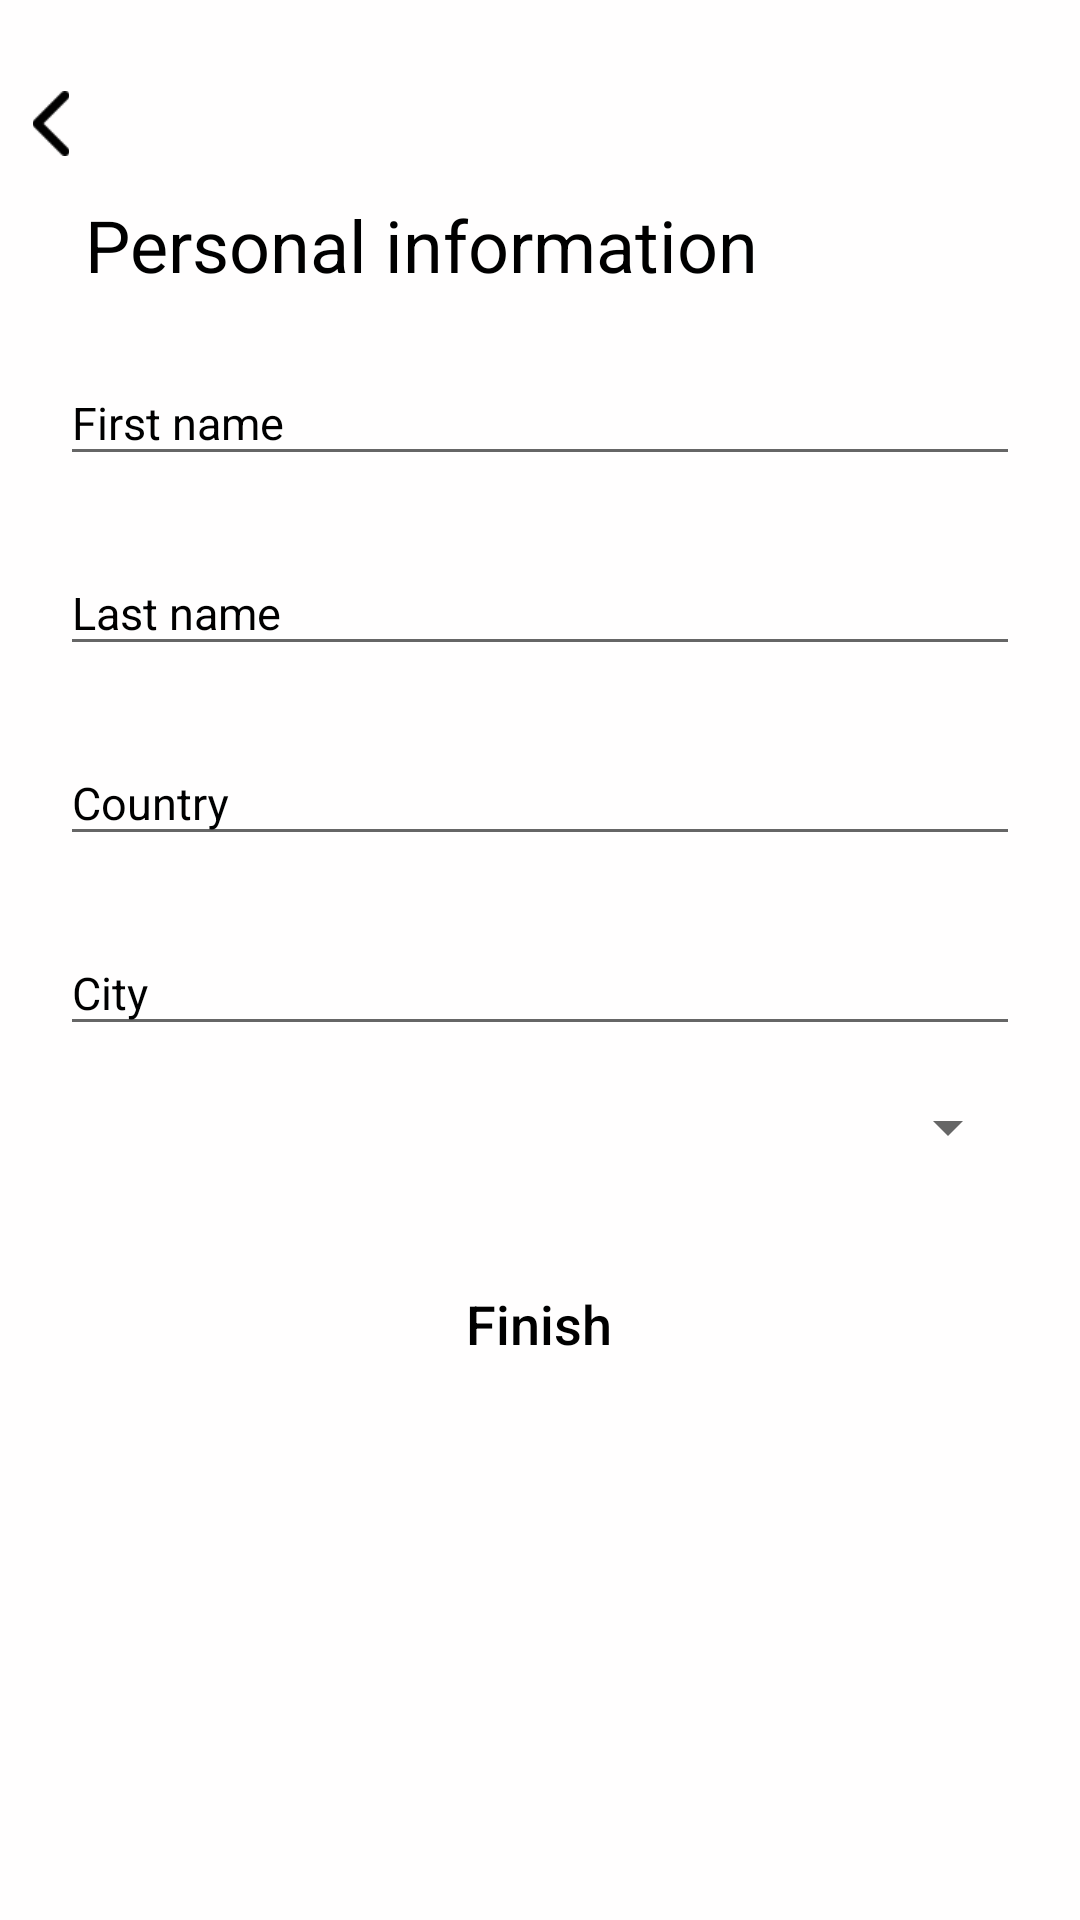

Screen size 1080w x 1920h. Icon name, then its box in pixels as (x1, y1, x2, y2):
back: (33, 91, 69, 156)
